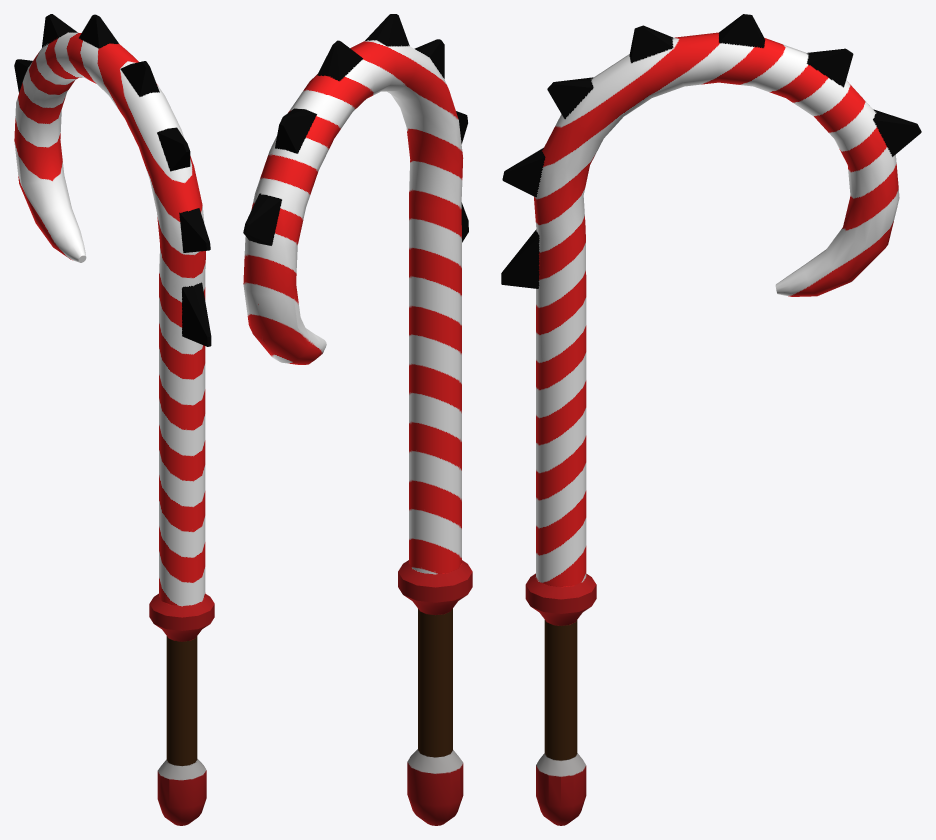
File: boomerang.fbx
3 views of the same model, side by side, from view 1: azimuth 30°, elevation 25°; view 2: azimuth 150°, elevation 25°; view 3: azimuth 270°, elevation 25° (orthographic). The views are drawn at different scales.
Parts seen in each view (by area): view 1: CandyStick; view 2: CandyStick; view 3: CandyStick.
Part boxes in pixels (left/top/right/bottom): CandyStick: left=14, top=14, right=214, bottom=825; CandyStick: left=243, top=14, right=472, bottom=825; CandyStick: left=501, top=14, right=921, bottom=825.
Bounding box in the file's own units: 7.77 × 97.67 × 46.09.
Materials: 1 (1 with a texture image).
